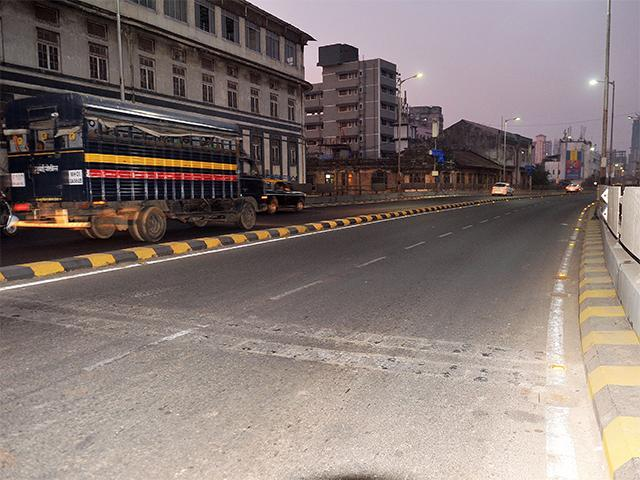car: (2, 87, 310, 240)
light: (570, 69, 611, 101), (404, 62, 429, 94), (503, 105, 528, 134)
